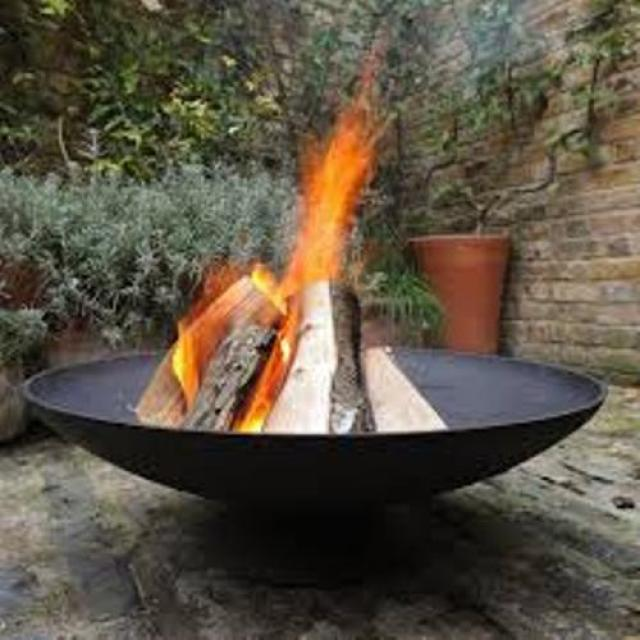fire: (174, 259, 295, 433), (282, 97, 374, 288)
